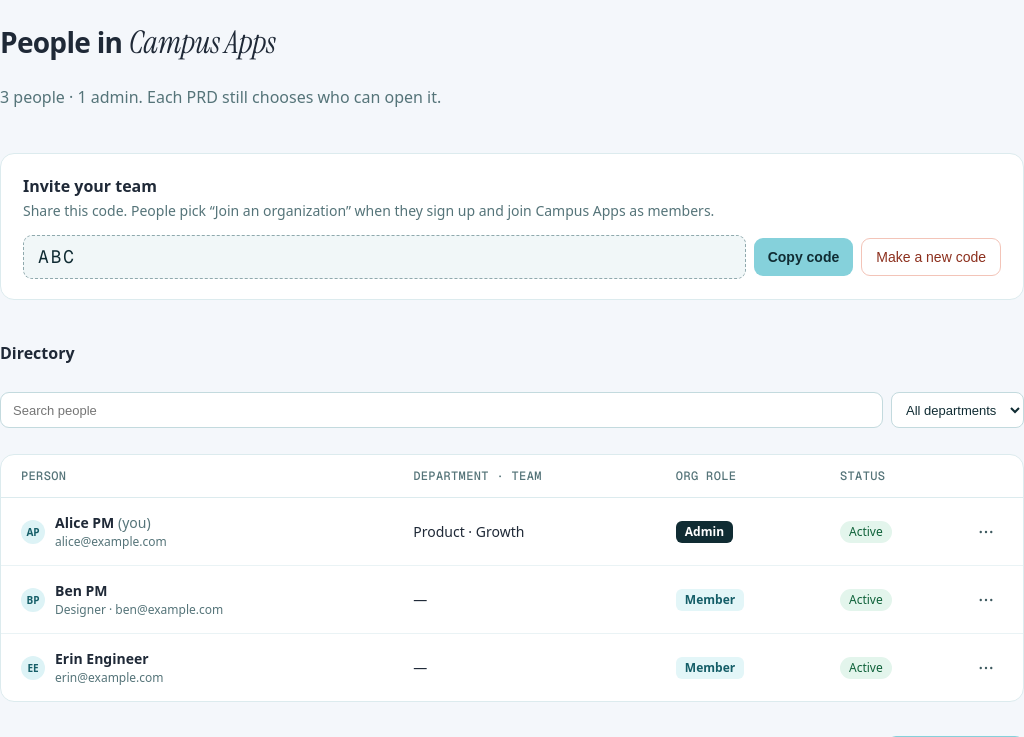
Test: deactivating a member › warns first and marks the person Deactivated in this session
Click the button named "Actions for Erin Engineer": x=986, y=668 [969, 651, 1003, 685]
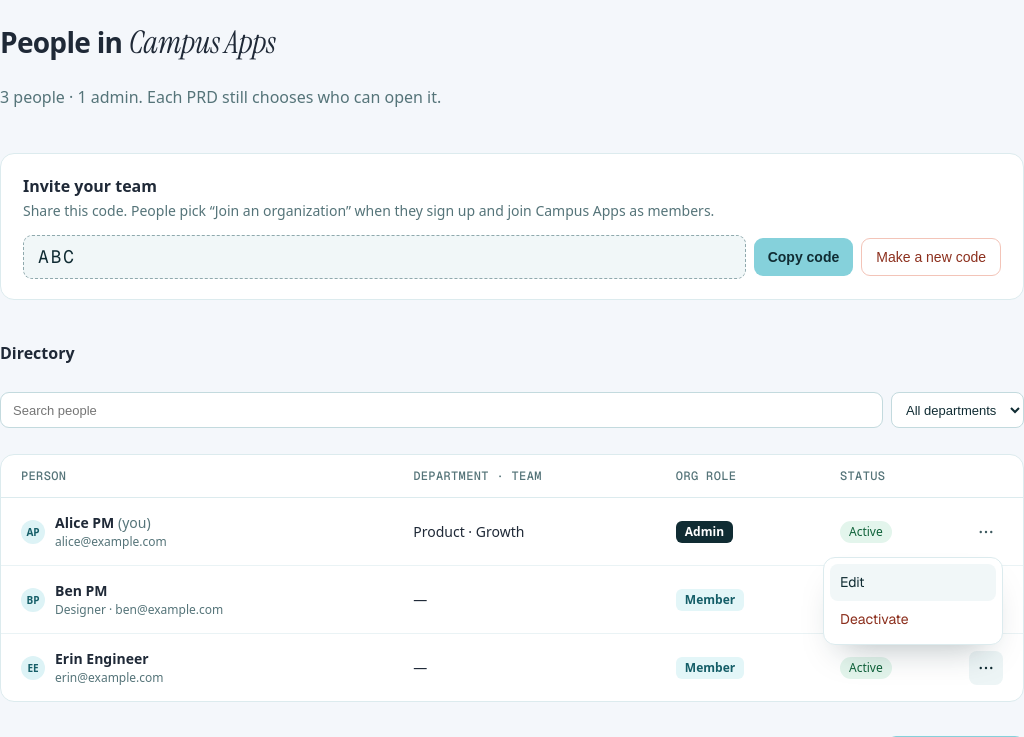
Click the menu item "Deactivate": x=913, y=619 [830, 601, 996, 638]
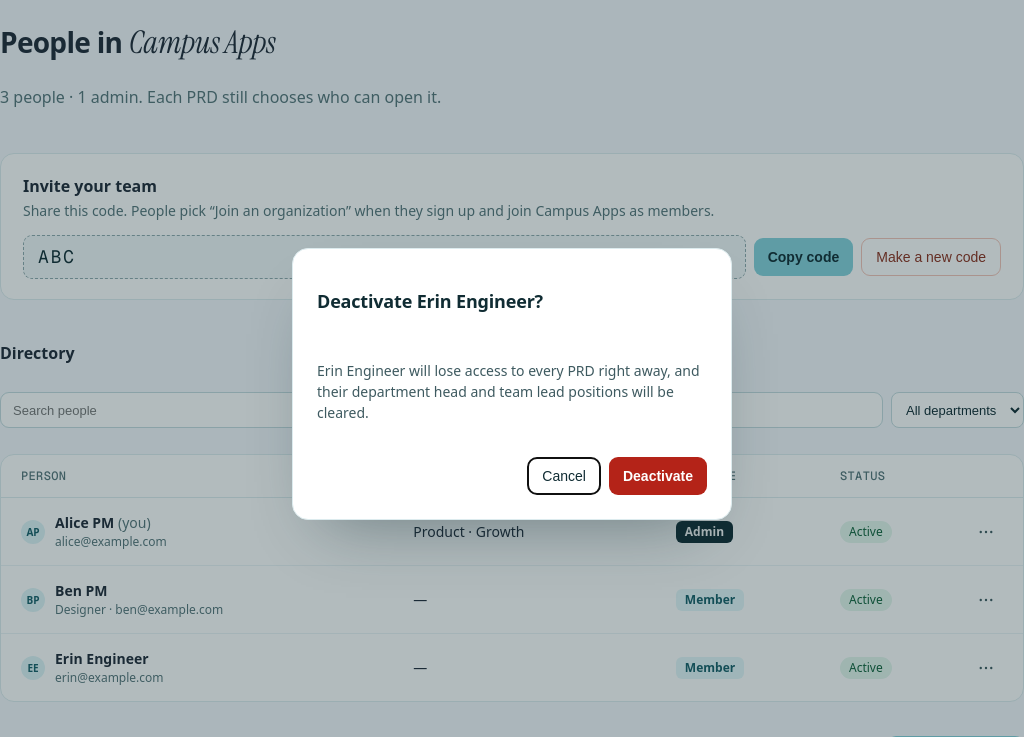
Check: the dialog shows "lose access to every PRD right away", box [317, 361, 700, 422]
Click the button "Deactivate": x=658, y=476 [609, 457, 707, 495]
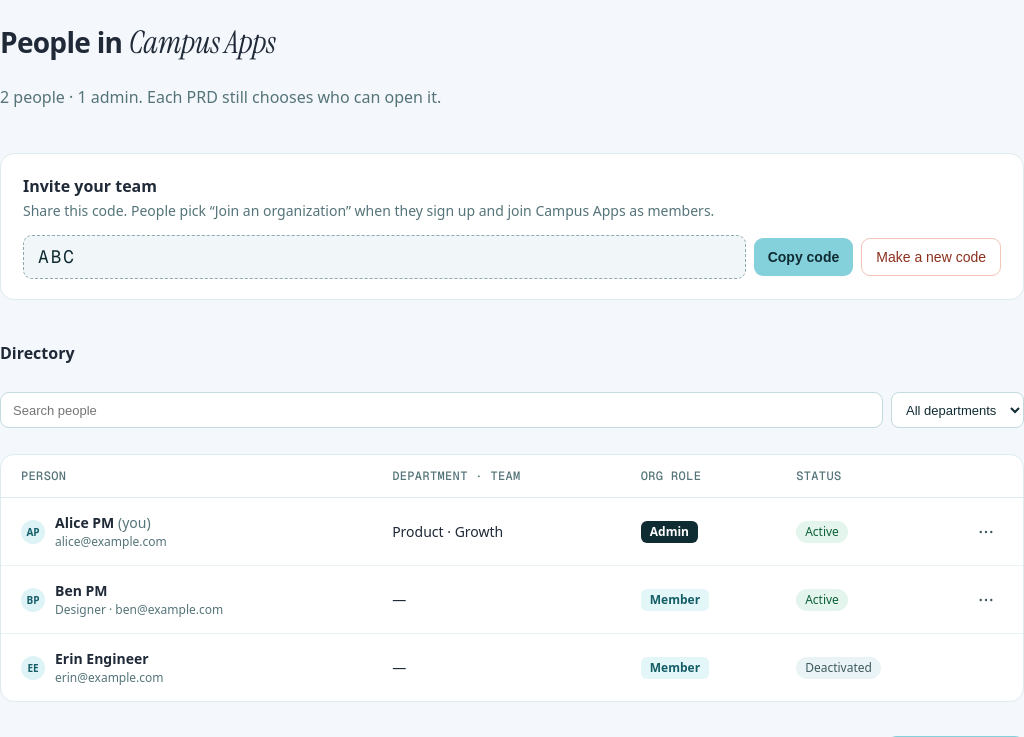
Check: the row "EE Erin Engineer erin@example.com — Member Deactivated" is shown, box [1, 634, 1023, 701]
Check: the button "Cancel" is gone
